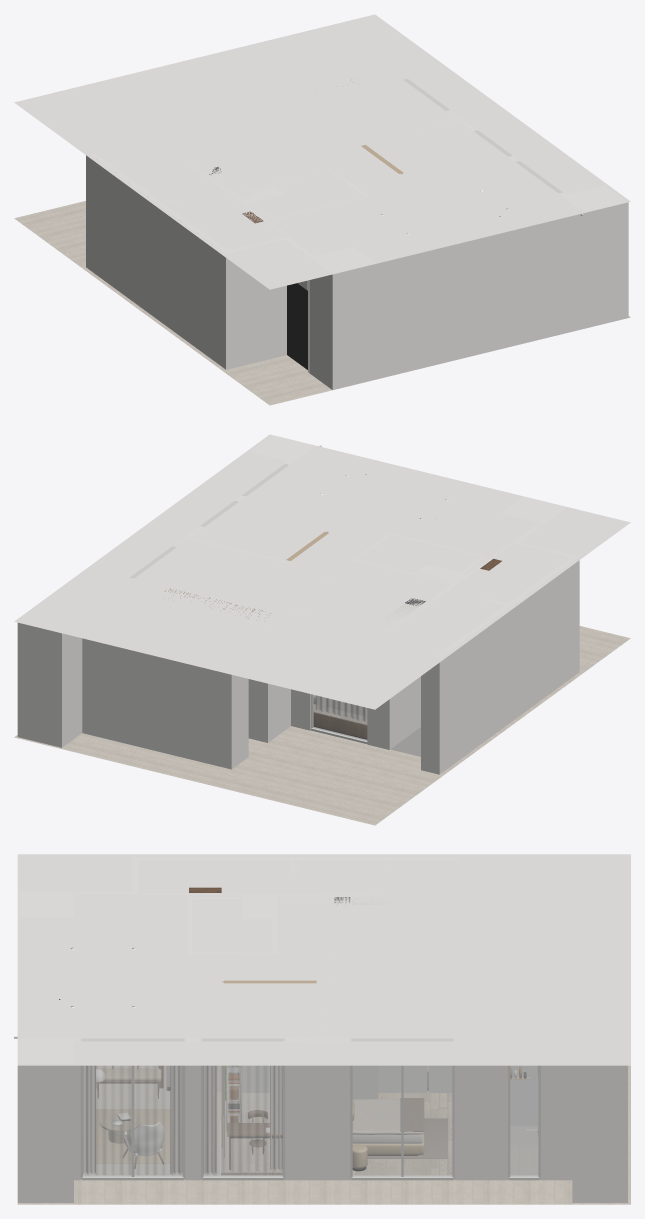
Rendered from apartment_mobile-BLEwHRmZ.glb.
The picture shows the model from 3 angles, top to bottom: view 1: azimuth 30°, elevation 25°; view 2: azimuth 150°, elevation 25°; view 3: azimuth 270°, elevation 25°; orthographic projection. The views are drawn at different scales.
Visible parts, largest first — view 1: ceiling, wall_38, wall_10, wall_36, floor_tile, wall_37, wall_33, door_entrance, wall_34; view 2: ceiling, floor_tile, wall_10, wall_1, wall_0, wall_9, win_bedB_glass, wall_14, wall_6, wall_2, wall_12, wall_36 (+5 smaller); view 3: ceiling, floor_tile, win_east3_glass, curtain_east_living, win_east1_glass, wall_37, win_east2_glass, curtain_east_studio, wall_17, wall_0, wall_5, wall_4 (+30 smaller).
Boxes of the visible parts, x1,y1,x2,y2 form: ceiling: (14, 14, 630, 289); wall_38: (377, 213, 584, 379); wall_10: (89, 152, 231, 369); wall_36: (309, 246, 376, 389); floor_tile: (14, 201, 630, 405); wall_37: (566, 185, 628, 327); wall_33: (229, 236, 289, 368); door_entrance: (287, 283, 307, 369); wall_34: (558, 192, 589, 328); ceiling: (14, 434, 630, 709); floor_tile: (14, 626, 630, 825); wall_10: (438, 555, 579, 771); wall_1: (82, 638, 234, 769); wall_0: (17, 622, 82, 747); wall_9: (421, 653, 442, 774); win_bedB_glass: (313, 695, 366, 740); wall_14: (389, 588, 450, 746); wall_6: (219, 613, 270, 742); wall_2: (232, 648, 248, 766); wall_12: (367, 627, 392, 749); wall_36: (501, 496, 567, 524); ceiling: (17, 854, 630, 1065); floor_tile: (17, 1065, 630, 1204); win_east3_glass: (83, 1066, 182, 1176); curtain_east_living: (83, 1066, 182, 1174); win_east1_glass: (353, 1066, 451, 1176); wall_37: (17, 1041, 73, 1202); win_east2_glass: (204, 1066, 282, 1176); curtain_east_studio: (204, 1066, 282, 1174); wall_17: (285, 1038, 349, 1180); wall_0: (572, 1065, 627, 1202); wall_5: (454, 1039, 507, 1180); wall_4: (541, 1065, 572, 1180).
Bounding box in the file's own units: 9.79 × 3 × 12.09.
130 materials, 25 textured.
